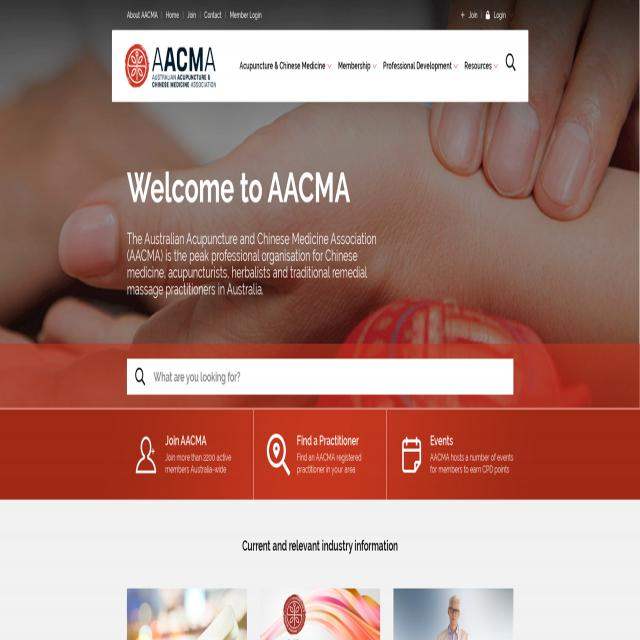button: (116, 418, 250, 491), (390, 417, 522, 487), (255, 418, 384, 488), (240, 30, 332, 102), (259, 588, 380, 640), (127, 588, 247, 640), (394, 588, 514, 640), (383, 30, 460, 102), (124, 44, 216, 88), (338, 30, 376, 102), (462, 30, 498, 102), (501, 42, 524, 87), (133, 364, 148, 390)
field: (126, 358, 512, 394)
